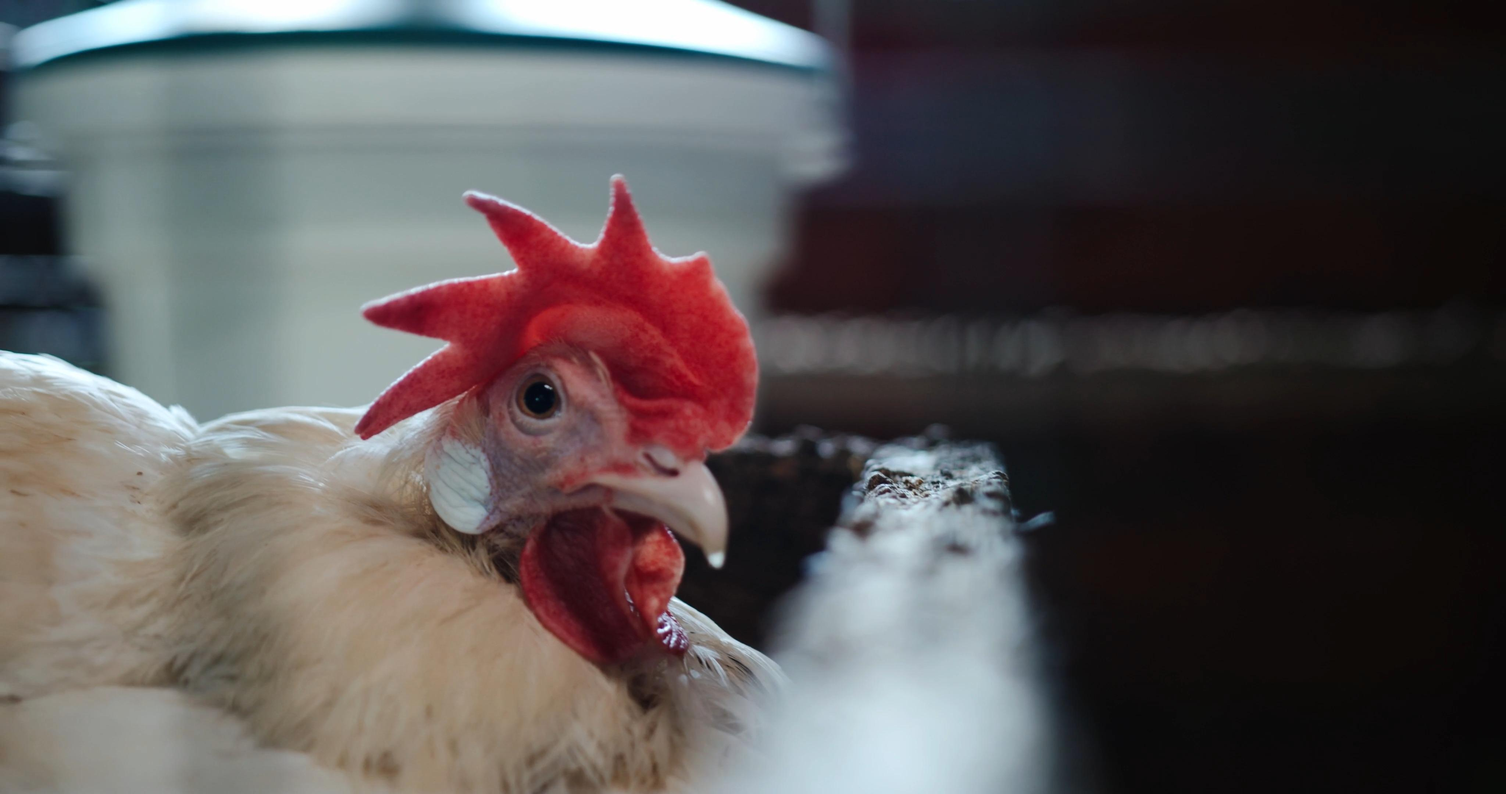Normal: (127, 188, 761, 730)
